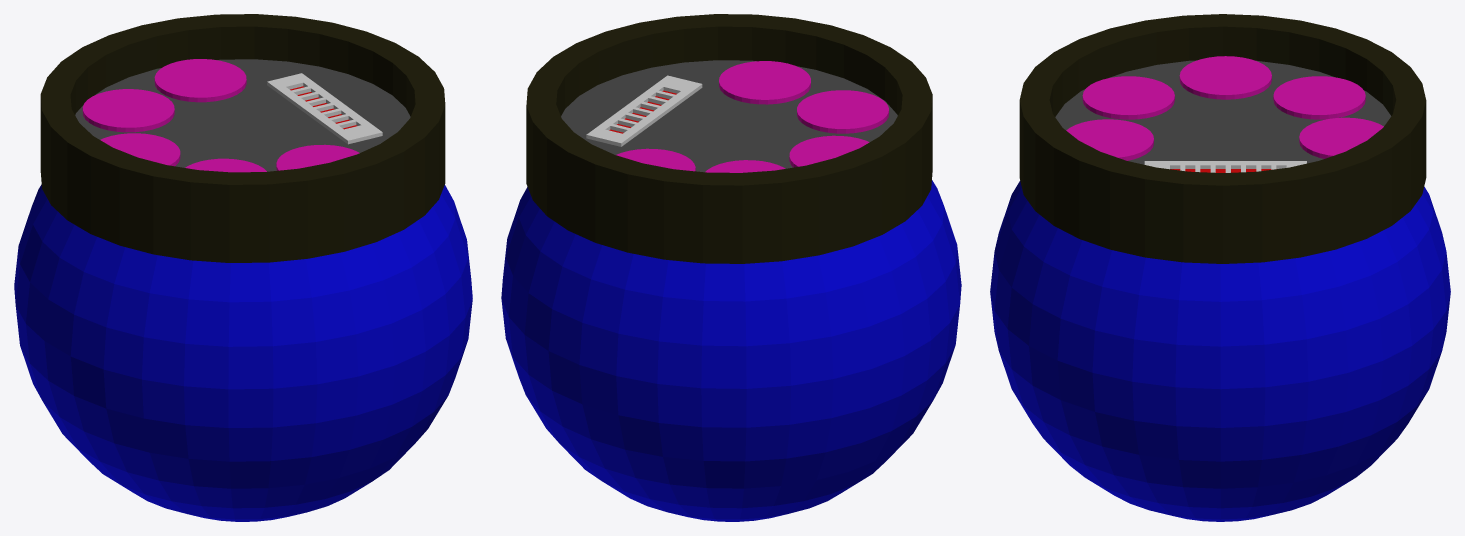
The model's file is waterMeter 1.obj.
3 views of the same model, side by side, from view 1: azimuth 30°, elevation 25°; view 2: azimuth 150°, elevation 25°; view 3: azimuth 270°, elevation 25° (orthographic).
Visible parts, largest first — view 1: Sphere, Cylinder.006_Cylinder.007, Cylinder_Cylinder.001, Cylinder.005_Cylinder.006, Cylinder.003_Cylinder.004, Cube.001_Cube.002, Cylinder.001_Cylinder.002, Cylinder.004_Cylinder.005, Cylinder.002_Cylinder.003; view 2: Sphere, Cylinder.006_Cylinder.007, Cylinder_Cylinder.001, Cylinder.002_Cylinder.003, Cylinder.004_Cylinder.005, Cube.001_Cube.002, Cylinder.001_Cylinder.002, Cylinder.005_Cylinder.006, Cylinder.003_Cylinder.004; view 3: Sphere, Cylinder.006_Cylinder.007, Cylinder_Cylinder.001, Cylinder.002_Cylinder.003, Cylinder.001_Cylinder.002, Cylinder.003_Cylinder.004, Cylinder.004_Cylinder.005, Cylinder.005_Cylinder.006, Cube.001_Cube.002.
Boxes of the visible parts, left/top/right/bottom form: Sphere: left=14, top=184, right=472, bottom=521; Cylinder.006_Cylinder.007: left=40, top=14, right=445, bottom=262; Cylinder_Cylinder.001: left=75, top=59, right=410, bottom=171; Cylinder.005_Cylinder.006: left=154, top=59, right=246, bottom=102; Cylinder.003_Cylinder.004: left=82, top=89, right=174, bottom=132; Cube.001_Cube.002: left=267, top=73, right=382, bottom=144; Cylinder.001_Cylinder.002: left=100, top=133, right=180, bottom=166; Cylinder.004_Cylinder.005: left=276, top=144, right=359, bottom=170; Cylinder.002_Cylinder.003: left=185, top=158, right=266, bottom=172; Sphere: left=501, top=180, right=961, bottom=521; Cylinder.006_Cylinder.007: left=526, top=14, right=932, bottom=263; Cylinder_Cylinder.001: left=561, top=60, right=897, bottom=172; Cylinder.002_Cylinder.003: left=797, top=90, right=888, bottom=133; Cylinder.004_Cylinder.005: left=719, top=61, right=810, bottom=104; Cube.001_Cube.002: left=586, top=75, right=702, bottom=146; Cylinder.001_Cylinder.002: left=789, top=135, right=869, bottom=167; Cylinder.005_Cylinder.006: left=616, top=148, right=695, bottom=171; Cylinder.003_Cylinder.004: left=705, top=160, right=785, bottom=172; Sphere: left=990, top=181, right=1450, bottom=521; Cylinder.006_Cylinder.007: left=1019, top=14, right=1426, bottom=263; Cylinder_Cylinder.001: left=1055, top=60, right=1391, bottom=164; Cylinder.002_Cylinder.003: left=1082, top=76, right=1174, bottom=119; Cylinder.001_Cylinder.002: left=1179, top=56, right=1271, bottom=99; Cylinder.003_Cylinder.004: left=1273, top=76, right=1365, bottom=119; Cylinder.004_Cylinder.005: left=1066, top=119, right=1153, bottom=160; Cylinder.005_Cylinder.006: left=1299, top=117, right=1383, bottom=158; Cube.001_Cube.002: left=1144, top=161, right=1306, bottom=172.
Bounding box in the file's own units: 0.2109 × 0.2026 × 0.2109.
